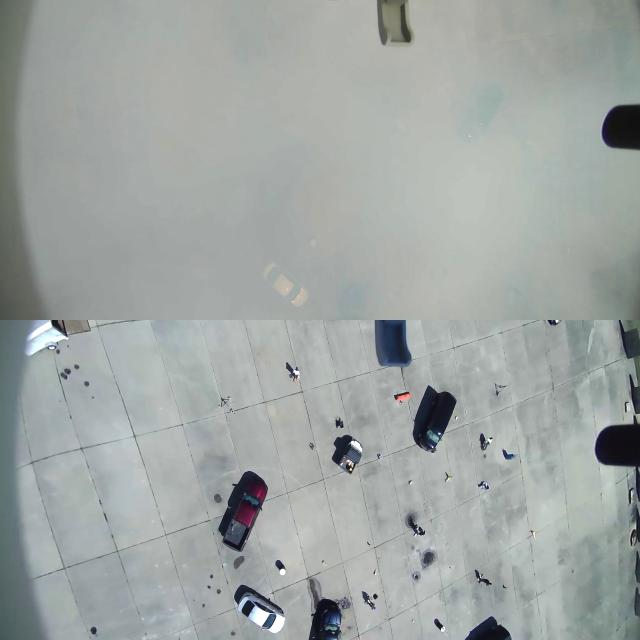car: (216, 470, 266, 556), (420, 376, 459, 456), (235, 585, 289, 635), (261, 264, 307, 310), (304, 594, 343, 640)
